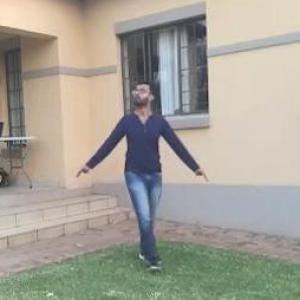land: (87, 88, 190, 252)
